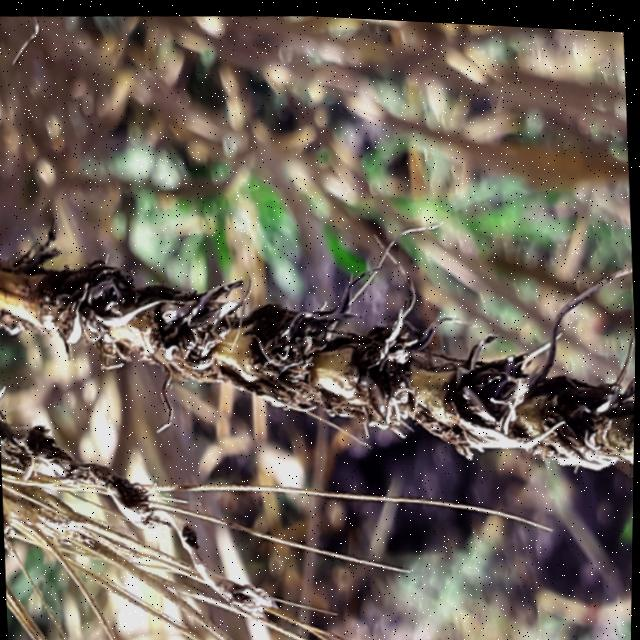loose_charred: (0, 185, 638, 500), (0, 361, 389, 640)
